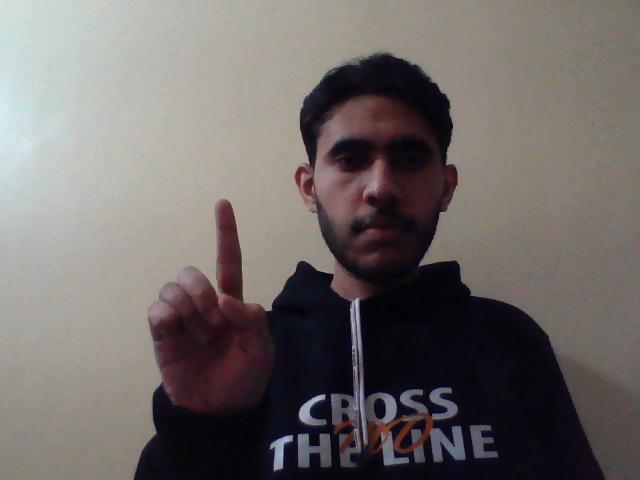D: (139, 194, 280, 424)
